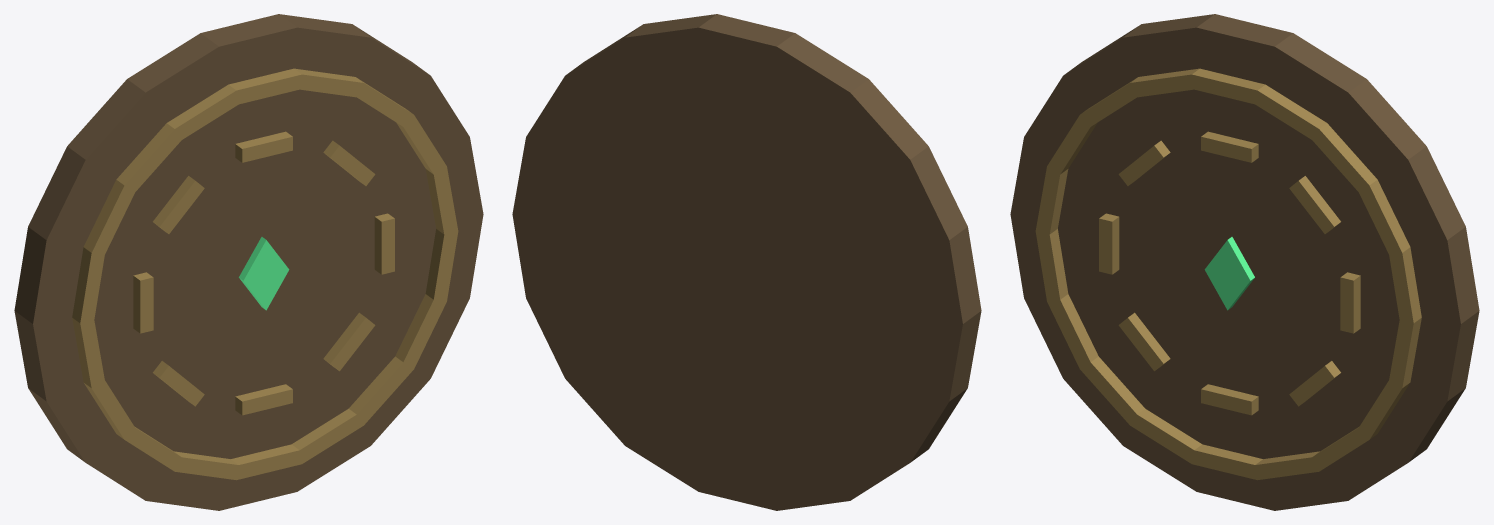
Rendered from trigram_back.obj.
The picture shows the model from 3 angles, left to right: view 1: azimuth 30°, elevation 25°; view 2: azimuth 150°, elevation 25°; view 3: azimuth 330°, elevation 25°; orthographic projection.
Parts seen in each view (by area): view 1: mirror_back_plate, back_ridge, mirror_back_plate_edge, back_trigram_center, back_trigram_03_bar, back_trigram_07_bar, back_trigram_06_bar, back_trigram_02_bar, back_trigram_04_bar, back_trigram_00_bar, back_trigram_05_bar, back_trigram_01_bar; view 2: mirror_back_plate, mirror_back_plate_edge; view 3: mirror_back_plate, back_ridge, mirror_back_plate_edge, back_trigram_center, back_trigram_05_bar, back_trigram_01_bar, back_trigram_02_bar, back_trigram_06_bar, back_trigram_04_bar, back_trigram_00_bar, back_trigram_03_bar, back_trigram_07_bar.
Boxes of the visible parts, left/top/right/bottom form: mirror_back_plate: left=33, top=27, right=483, bottom=510; back_ridge: left=72, top=68, right=458, bottom=480; mirror_back_plate_edge: left=14, top=14, right=427, bottom=462; back_trigram_center: left=243, top=240, right=289, bottom=310; back_trigram_03_bar: left=323, top=312, right=375, bottom=371; back_trigram_07_bar: left=153, top=176, right=204, bottom=233; back_trigram_06_bar: left=133, top=272, right=153, bottom=333; back_trigram_02_bar: left=374, top=213, right=394, bottom=274; back_trigram_04_bar: left=235, top=384, right=292, bottom=415; back_trigram_00_bar: left=235, top=131, right=292, bottom=162; back_trigram_05_bar: left=153, top=361, right=204, bottom=406; back_trigram_01_bar: left=323, top=140, right=375, bottom=185; mirror_back_plate: left=512, top=27, right=962, bottom=510; mirror_back_plate_edge: left=568, top=14, right=981, bottom=462; mirror_back_plate: left=1010, top=27, right=1460, bottom=510; back_ridge: left=1035, top=68, right=1421, bottom=480; mirror_back_plate_edge: left=1066, top=14, right=1479, bottom=462; back_trigram_center: left=1204, top=240, right=1250, bottom=310; back_trigram_05_bar: left=1118, top=312, right=1170, bottom=371; back_trigram_01_bar: left=1289, top=176, right=1340, bottom=233; back_trigram_02_bar: left=1340, top=272, right=1360, bottom=333; back_trigram_06_bar: left=1099, top=213, right=1119, bottom=274; back_trigram_04_bar: left=1201, top=384, right=1258, bottom=415; back_trigram_00_bar: left=1201, top=131, right=1258, bottom=162; back_trigram_03_bar: left=1289, top=361, right=1340, bottom=406; back_trigram_07_bar: left=1118, top=140, right=1170, bottom=185.
Size of the model in its own units: 1.12 by 1.1 by 0.1275.
